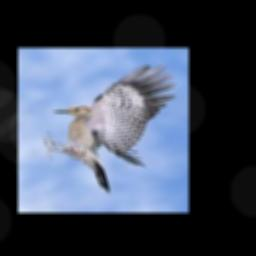Woodpecker: (42, 66, 177, 193)
